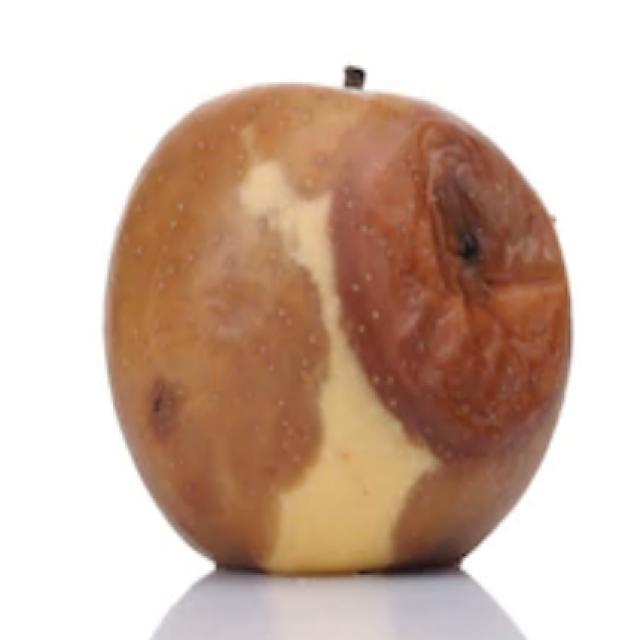Rotten: (127, 87, 558, 580)
